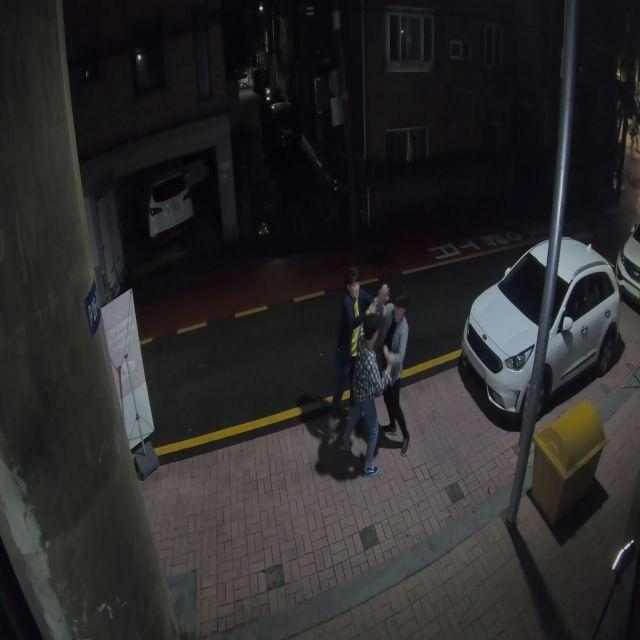fight: (324, 274, 412, 479)
